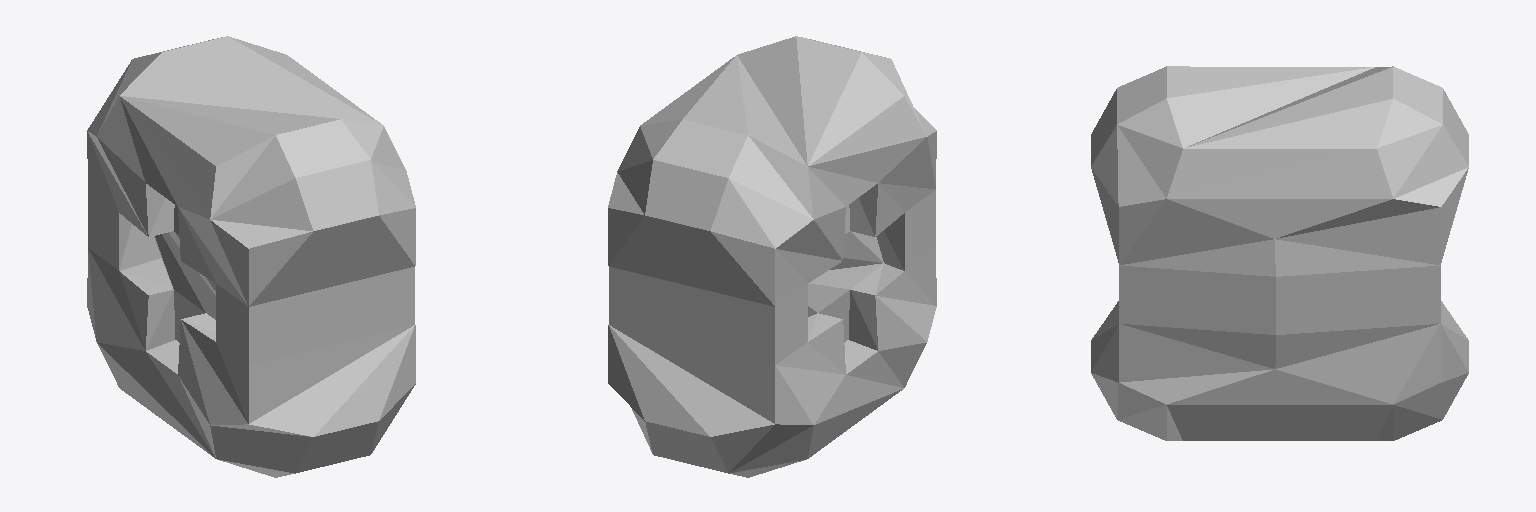
File: VerySmallMedicalKit_LOD0.obj
3 views of the same model, side by side, from view 1: azimuth 30°, elevation 25°; view 2: azimuth 150°, elevation 25°; view 3: azimuth 270°, elevation 25° (orthographic).
Visible parts, largest first — view 1: VerySmallMedicalKit_LOD0; view 2: VerySmallMedicalKit_LOD0; view 3: VerySmallMedicalKit_LOD0.
Boxes of the visible parts, <box> form: VerySmallMedicalKit_LOD0: <box>87,36,415,477</box>; VerySmallMedicalKit_LOD0: <box>608,36,936,477</box>; VerySmallMedicalKit_LOD0: <box>1091,66,1468,440</box>.
Size of the model in its own units: 0.3687 by 0.5888 by 0.5888.